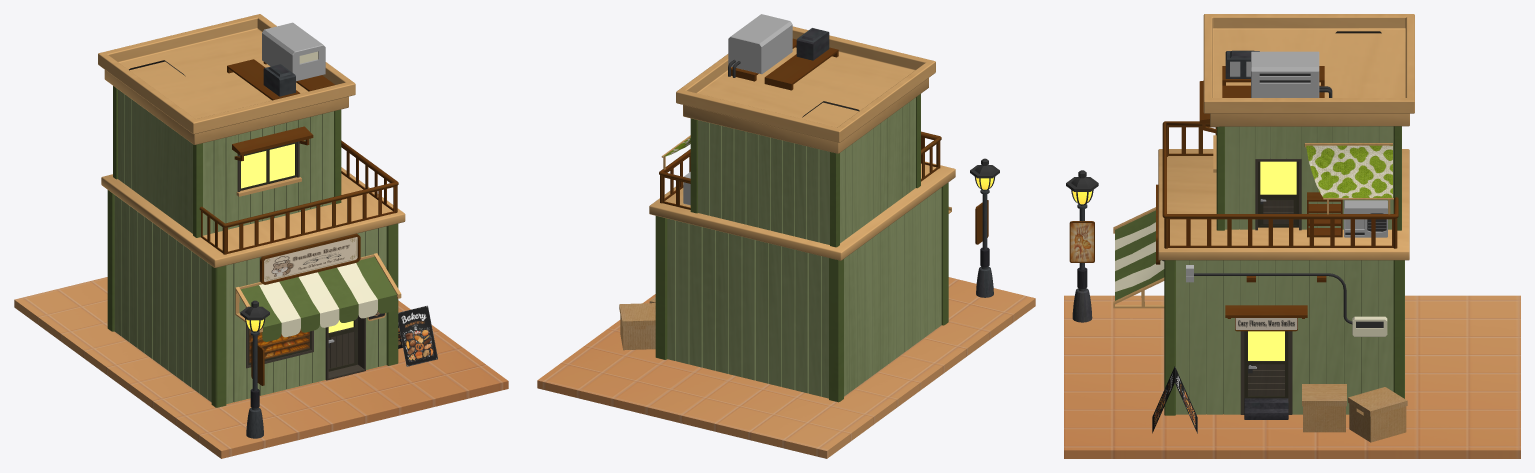
File: stand.glb
3 renders of one model, left to right at view 1: azimuth 30°, elevation 25°; view 2: azimuth 150°, elevation 25°; view 3: azimuth 270°, elevation 25°, orthographic. The views are drawn at different scales.
Parts seen in each view (by area): view 1: Plane, Plane.081, Plane.078, Plane.009, Plane.002, Plane.019, Plane.023, Plane.050, Plane.086, Plane.090, Plane.040, Circle.002 (+8 smaller); view 2: Plane.081, Plane, Plane.078, Plane.009, Plane.002, Plane.050, Plane.070, Circle.002, Plane.023, Plane.052, Plane.053; view 3: Plane, Plane.081, Plane.009, Plane.002, Plane.078, Plane.023, Plane.062, Plane.050, Plane.019, Plane.070, Plane.092, Plane.042 (+17 smaller).
Boxes of the visible parts, x1=… form: Plane: x1=14, y1=277, x2=508, y2=458; Plane.081: x1=107, y1=190, x2=398, y2=407; Plane.078: x1=113, y1=86, x2=341, y2=237; Plane.009: x1=98, y1=14, x2=355, y2=144; Plane.002: x1=101, y1=167, x2=405, y2=267; Plane.019: x1=240, y1=256, x2=396, y2=341; Plane.023: x1=199, y1=140, x2=398, y2=254; Plane.050: x1=262, y1=22, x2=325, y2=81; Plane.086: x1=264, y1=237, x2=357, y2=281; Plane.090: x1=398, y1=305, x2=437, y2=366; Plane.040: x1=241, y1=144, x2=294, y2=188; Circle.002: x1=240, y1=300, x2=269, y2=438; Plane.081: x1=655, y1=182, x2=948, y2=402; Plane: x1=537, y1=277, x2=1035, y2=458; Plane.078: x1=690, y1=94, x2=920, y2=247; Plane.009: x1=676, y1=26, x2=935, y2=153; Plane.002: x1=649, y1=161, x2=955, y2=260; Plane.050: x1=728, y1=14, x2=792, y2=74; Plane.070: x1=619, y1=303, x2=655, y2=350; Circle.002: x1=970, y1=158, x2=999, y2=297; Plane.023: x1=659, y1=131, x2=941, y2=209; Plane.052: x1=764, y1=47, x2=838, y2=90; Plane.053: x1=796, y1=28, x2=829, y2=60; Plane: x1=1064, y1=295, x2=1520, y2=458; Plane.081: x1=1164, y1=260, x2=1404, y2=415; Plane.009: x1=1203, y1=14, x2=1414, y2=126; Plane.002: x1=1158, y1=149, x2=1409, y2=260; Plane.078: x1=1216, y1=126, x2=1401, y2=230; Plane.023: x1=1162, y1=121, x2=1398, y2=248; Plane.062: x1=1306, y1=145, x2=1392, y2=197; Plane.050: x1=1251, y1=51, x2=1319, y2=97; Plane.019: x1=1115, y1=210, x2=1164, y2=300; Plane.070: x1=1348, y1=387, x2=1407, y2=442; Plane.092: x1=1302, y1=384, x2=1346, y2=432; Plane.042: x1=1244, y1=331, x2=1288, y2=398.
Bounding box in the file's own units: 32.59 × 33.2 × 40.68.
Materials: 4 (2 with a texture image).
